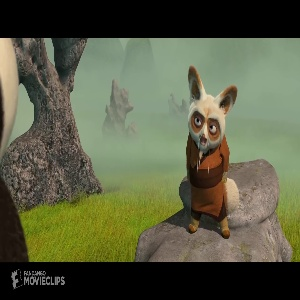po: (1, 39, 32, 262)
shifu: (178, 64, 241, 239)
